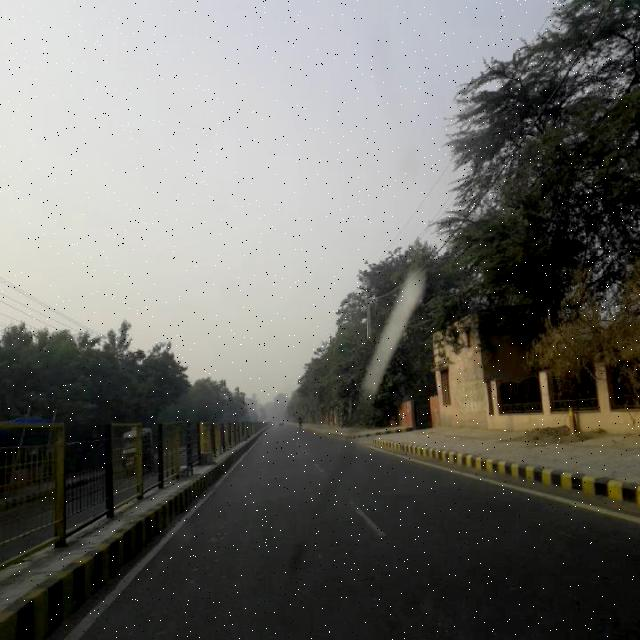D44: (349, 496, 394, 541)
